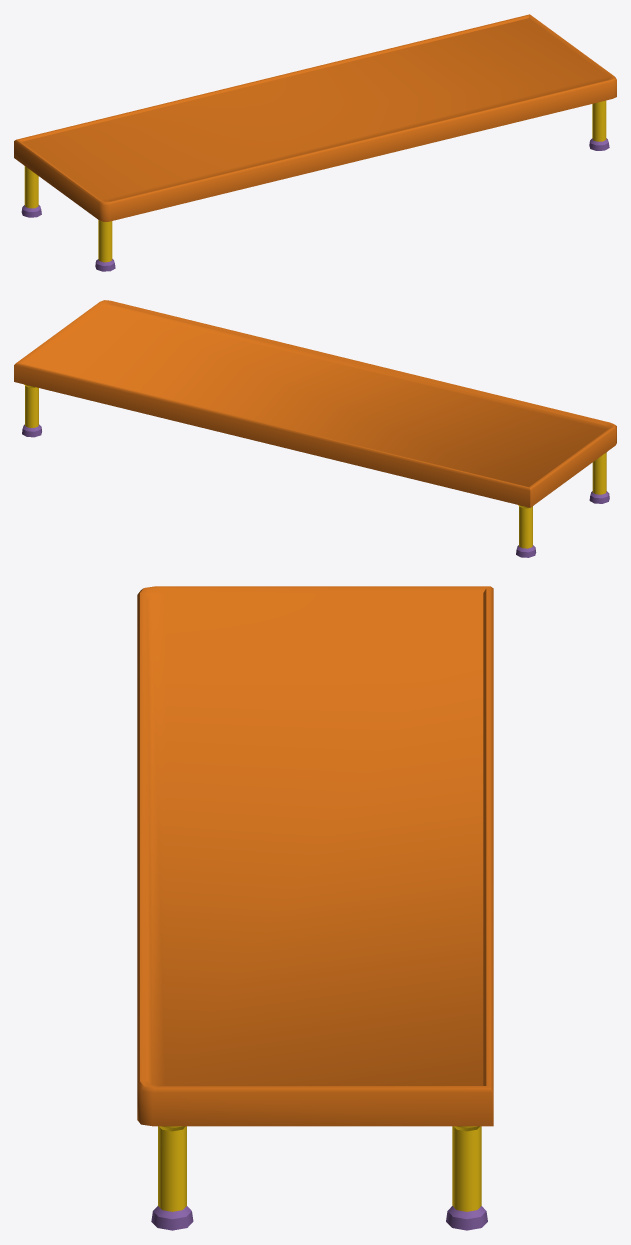
Rendered from Table.fbx.
3 renders of one model, top to bottom at view 1: azimuth 30°, elevation 25°; view 2: azimuth 150°, elevation 25°; view 3: azimuth 270°, elevation 25°, orthographic. The views are drawn at different scales.
Parts seen in each view (by area): view 1: Table; view 2: Table; view 3: Table.
Part boxes in pixels (bbox=[...]): Table: bbox=[14, 14, 616, 271]; Table: bbox=[14, 300, 616, 557]; Table: bbox=[137, 586, 493, 1230].
Bounding box in the file's own units: 143 × 19.04 × 42.84.
